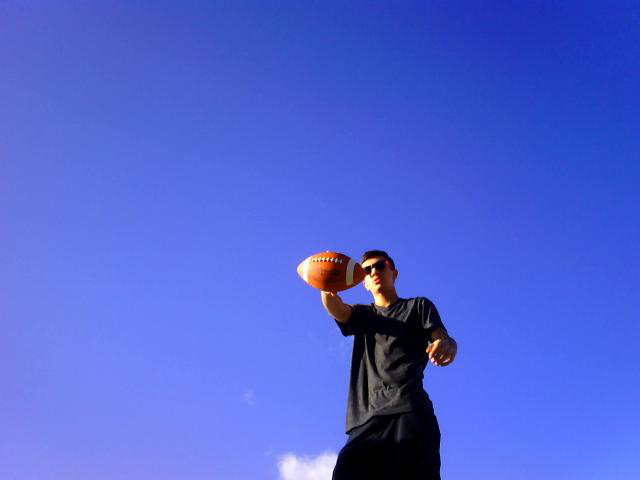football: (294, 246, 367, 293)
